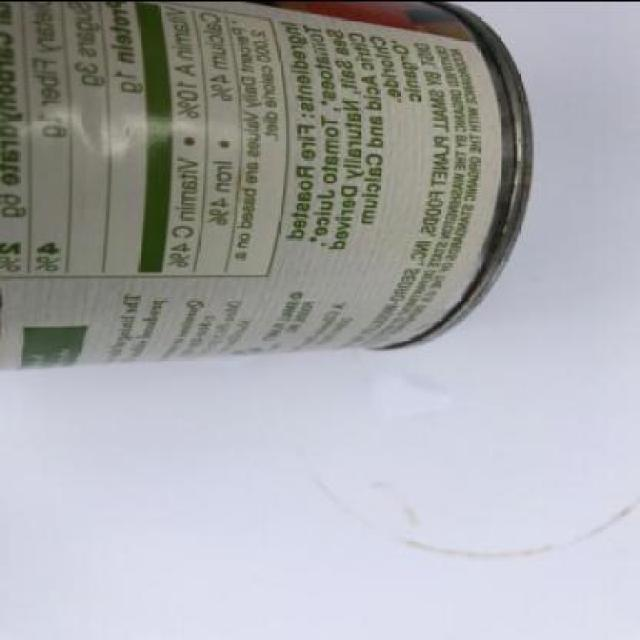METAL: (2, 1, 535, 368)
